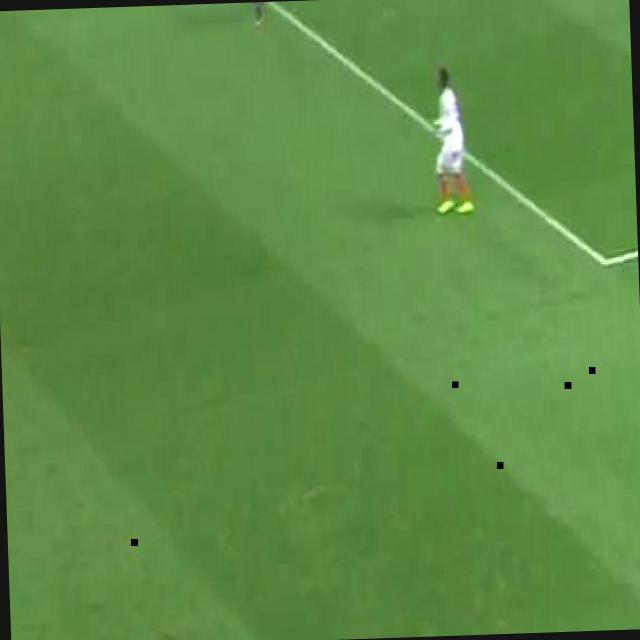player-white: (431, 63, 474, 218), (235, 2, 270, 30)
